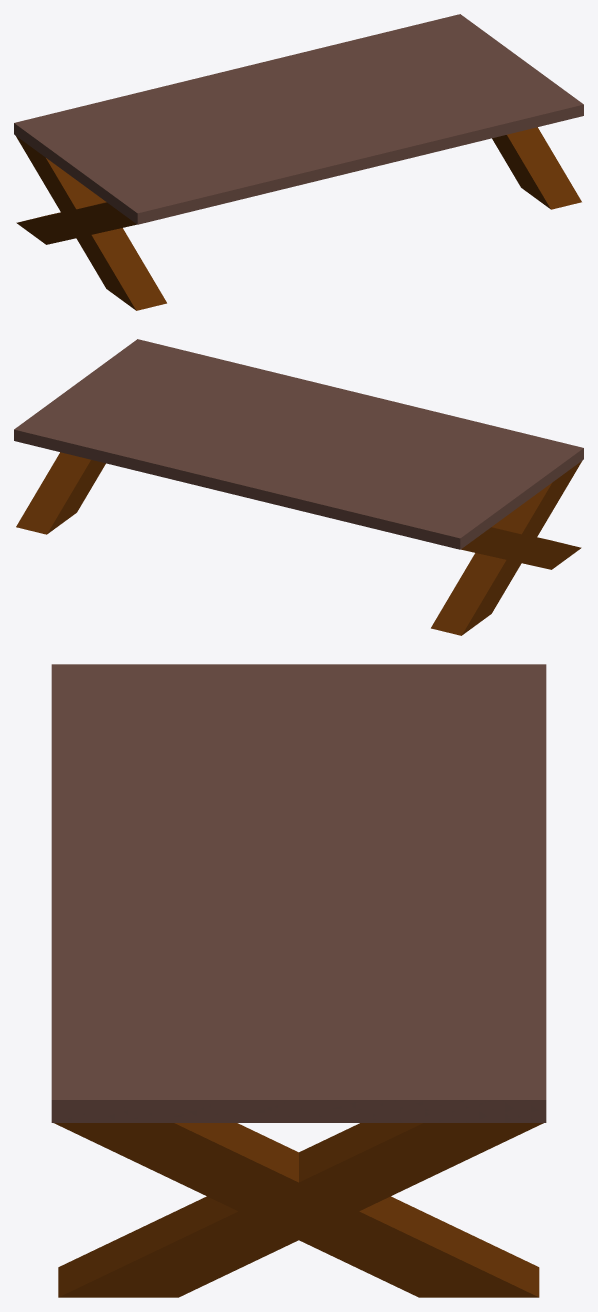
The model's file is Table.glb.
The picture shows the model from 3 angles, top to bottom: view 1: azimuth 30°, elevation 25°; view 2: azimuth 150°, elevation 25°; view 3: azimuth 270°, elevation 25°; orthographic projection. The views are drawn at different scales.
Visible parts, largest first — view 1: Table; view 2: Table; view 3: Table.
Part boxes in pixels (x1,y1,x2,y2): Table: (14, 14, 583, 310); Table: (14, 339, 583, 635); Table: (51, 664, 546, 1297).
Bounding box in the file's own units: 77.1 × 16.31 × 36.98.
